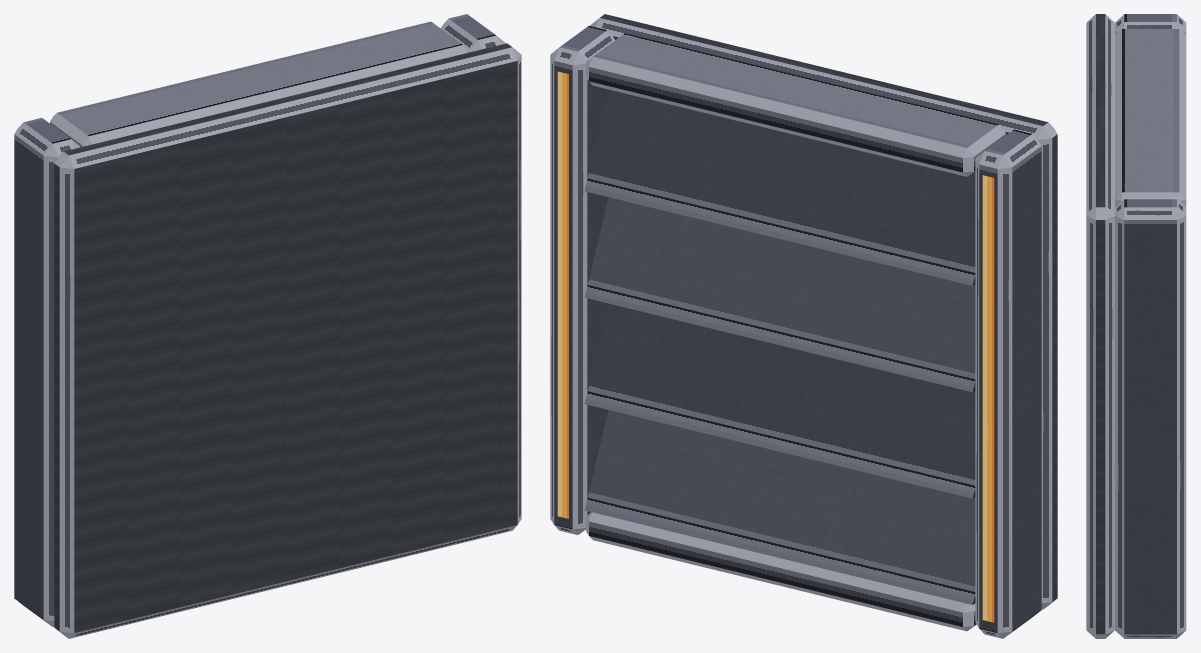
The model's file is marlit_armor4.glb.
3 renders of one model, left to right at view 1: azimuth 30°, elevation 25°; view 2: azimuth 150°, elevation 25°; view 3: azimuth 270°, elevation 25°, orthographic. The views are drawn at different scales.
Parts seen in each view (by area): view 1: marlit_armor4_body; view 2: marlit_armor4_body; view 3: marlit_armor4_body.
Part boxes in pixels (bbox=[...]): marlit_armor4_body: bbox=[14, 14, 521, 638]; marlit_armor4_body: bbox=[550, 14, 1057, 638]; marlit_armor4_body: bbox=[1086, 14, 1186, 638].
Bounding box in the file's own units: 2 × 2 × 0.421.
1 material, 1 textured.
